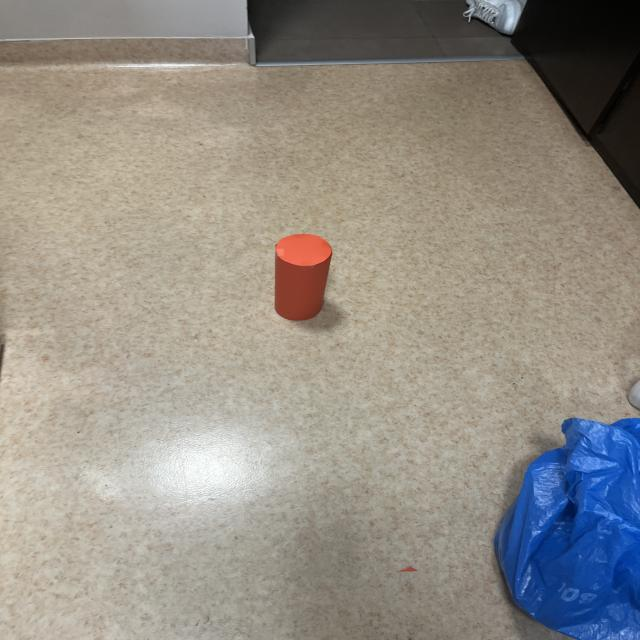przeszkoda: (275, 234, 331, 320)
